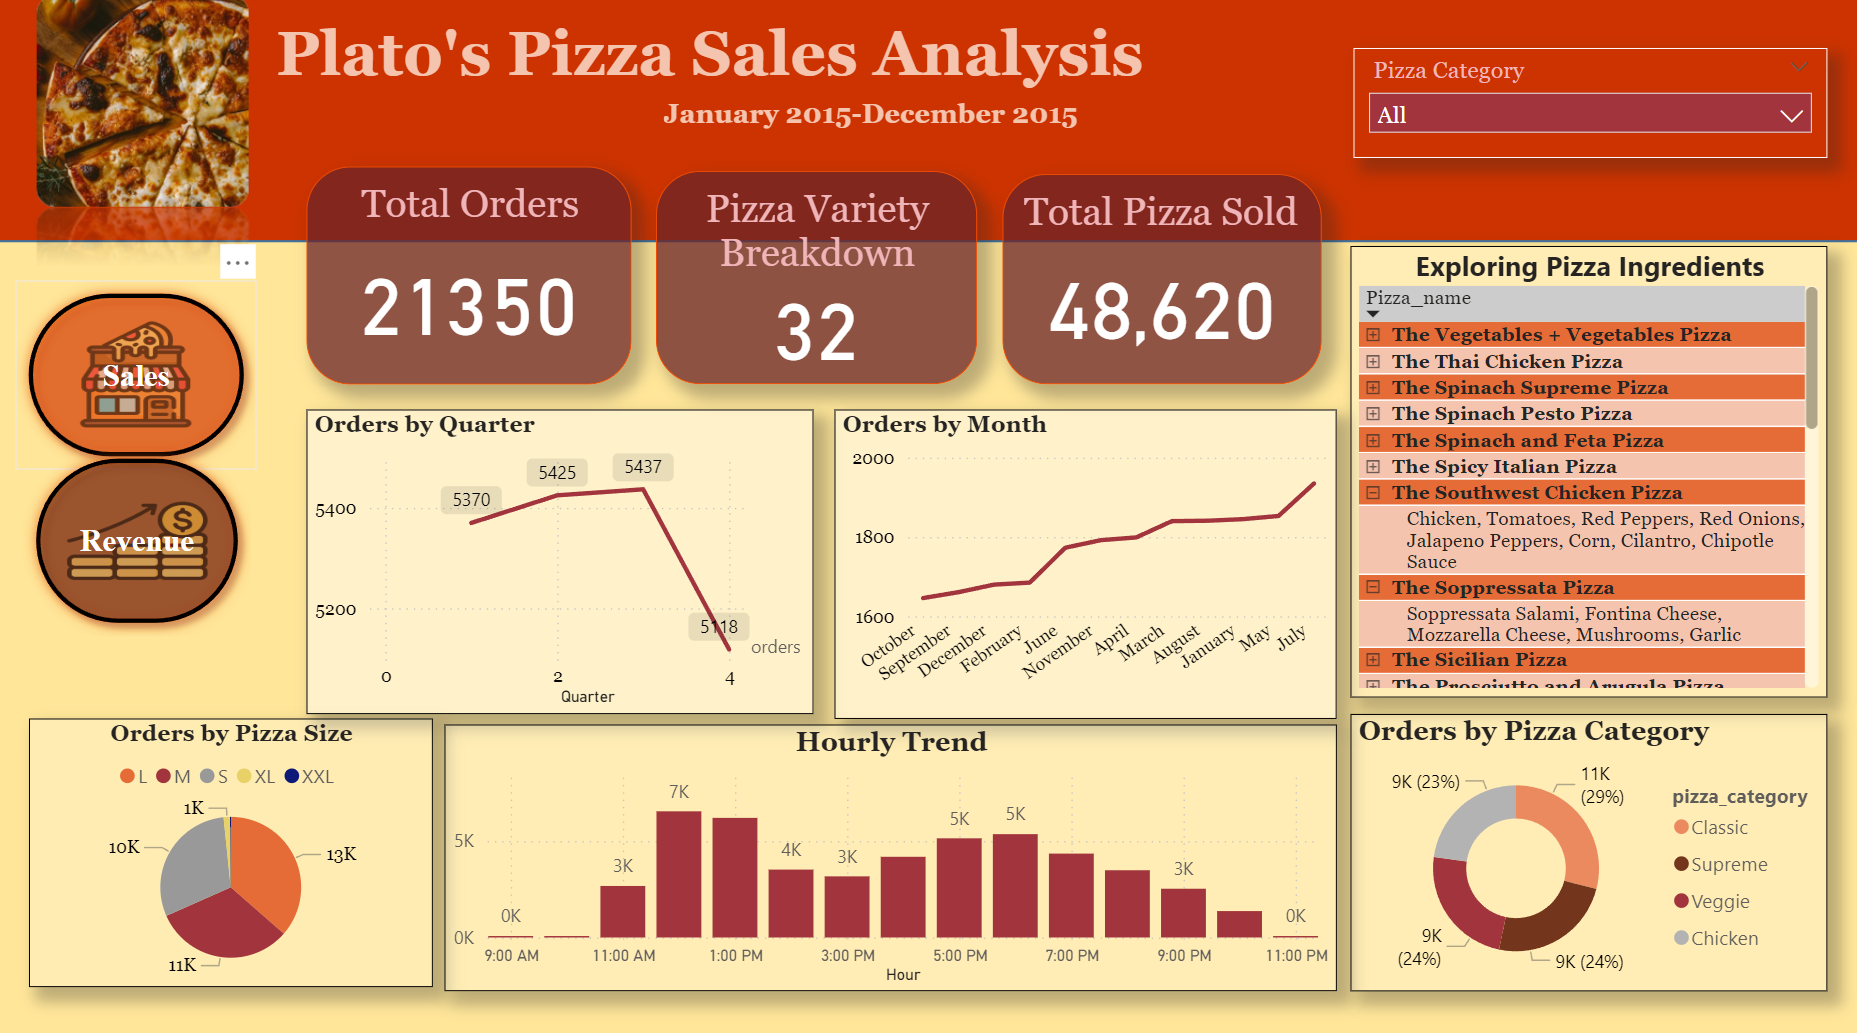

What the dashboard file says about the page in this screenshot:
{"tool":"powerbi","page":{"name":"Sales","canvas":[1280,720],"ordinal":0},"visuals":[{"type":"slicer","fields":{"Values":["Data Model - Pizza Sales xlsx - pizza_sales.pizza_category"]},"box":[930,37,324.7,75],"z":0},{"type":"textbox","title":"Plato''s Pizza Sales Analysis","box":[186.6,16.2,731.2,54.5],"z":1000},{"type":"textbox","title":"January 2015-December 2015","box":[452.1,70.9,310.3,54.5],"z":2000},{"type":"card","title":"Total Orders","fields":{"Values":["Data Model - Pizza Sales xlsx - pizza_sales.orders"]},"box":[212.7,118.2,223,149],"z":3000},{"type":"card","title":"Pizza Variety Breakdown","fields":{"Values":["sales.pizzasold"]},"box":[452.1,121.3,219.9,145.9],"z":4000},{"type":"card","title":"Total Pizza Sold","fields":{"Values":["CountNonNull(sales.quantity)"]},"box":[689.5,123.3,218.9,143.9],"z":5000},{"type":"lineChart","title":"Orders by Quarter","fields":{"Y":["sales.orders"],"Category":["sales.Quarter"]},"box":[212.7,284.6,347.3,208.6],"z":6000},{"type":"lineChart","title":"Orders by Month ","fields":{"Category":["sales.Month Name"],"Y":["sales.orders"]},"box":[574.4,284.6,344.2,211.7],"z":7000},{"type":"pieChart","title":"Orders by Pizza Size","fields":{"Category":["sales.pizza_size"],"Y":["sales.orders"]},"box":[22.6,496.3,276.4,183.9],"z":8000},{"type":"donutChart","title":"Orders by Pizza Category","fields":{"Category":["sales.pizza_category"],"Y":["sales.orders"]},"box":[927.9,493.3,326.8,190.1],"z":9000},{"type":"actionButton","title":"Sales","box":[13.4,196.3,165.4,129.5],"z":10000},{"type":"pivotTable","title":"Exploring Pizza Ingredients","fields":{"Rows":["sales.pizza_name","sales.pizza_ingredients"]},"box":[927.4,172.7,326.7,309.1],"z":11000},{"type":"actionButton","title":"Sales","box":[18.5,309.3,156.2,130.5],"z":12000},{"type":"clusteredColumnChart","title":"Hourly Trend","fields":{"Category":["sales.HourOnlyMeasure"],"Y":["CountNonNull(sales.order_id)"]},"box":[307.3,500.4,611.4,182.9],"z":13000}]}

Visuals, with their boxes in screenshot pixels (x1, y1, x2, y2), scaled from the page's 1280x720 canvas onto the 1857x1033 screenshot:
slicer - Data Model - Pizza Sales xlsx - pizza_sales.pizza_category: x1=1349 y1=53 x2=1820 y2=161
"Plato''s Pizza Sales Analysis" textbox: x1=271 y1=23 x2=1332 y2=101
"January 2015-December 2015" textbox: x1=656 y1=102 x2=1106 y2=180
"Total Orders" card: x1=309 y1=170 x2=632 y2=383
"Pizza Variety Breakdown" card: x1=656 y1=174 x2=975 y2=383
"Total Pizza Sold" card: x1=1000 y1=177 x2=1318 y2=383
"Orders by Quarter" lineChart: x1=309 y1=408 x2=812 y2=708
"Orders by Month " lineChart: x1=833 y1=408 x2=1333 y2=712
"Orders by Pizza Size" pieChart: x1=33 y1=712 x2=434 y2=976
"Orders by Pizza Category" donutChart: x1=1346 y1=708 x2=1820 y2=980
"Sales" actionButton: x1=19 y1=282 x2=259 y2=467
"Exploring Pizza Ingredients" pivotTable: x1=1345 y1=248 x2=1819 y2=691
"Sales" actionButton: x1=27 y1=444 x2=253 y2=631
"Hourly Trend" clusteredColumnChart: x1=446 y1=718 x2=1333 y2=980
